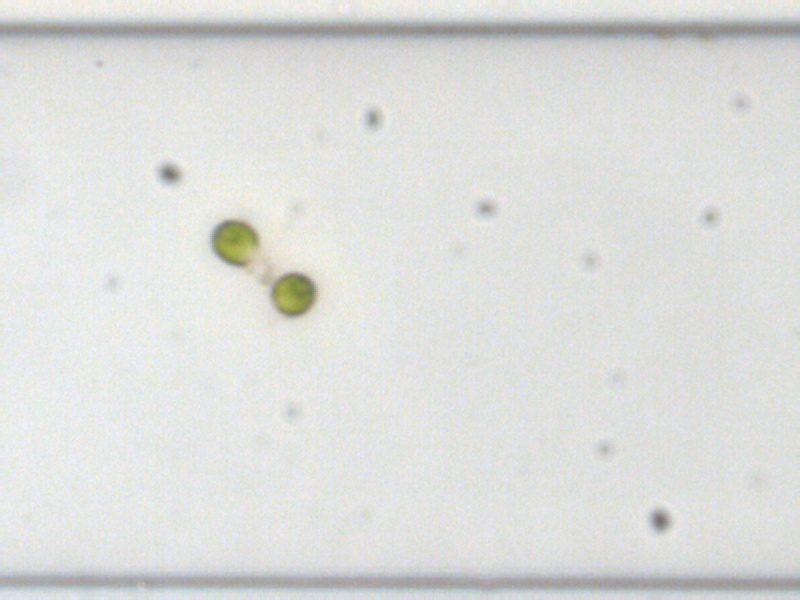Platymonas: (204, 217, 261, 266), (267, 274, 317, 315)
